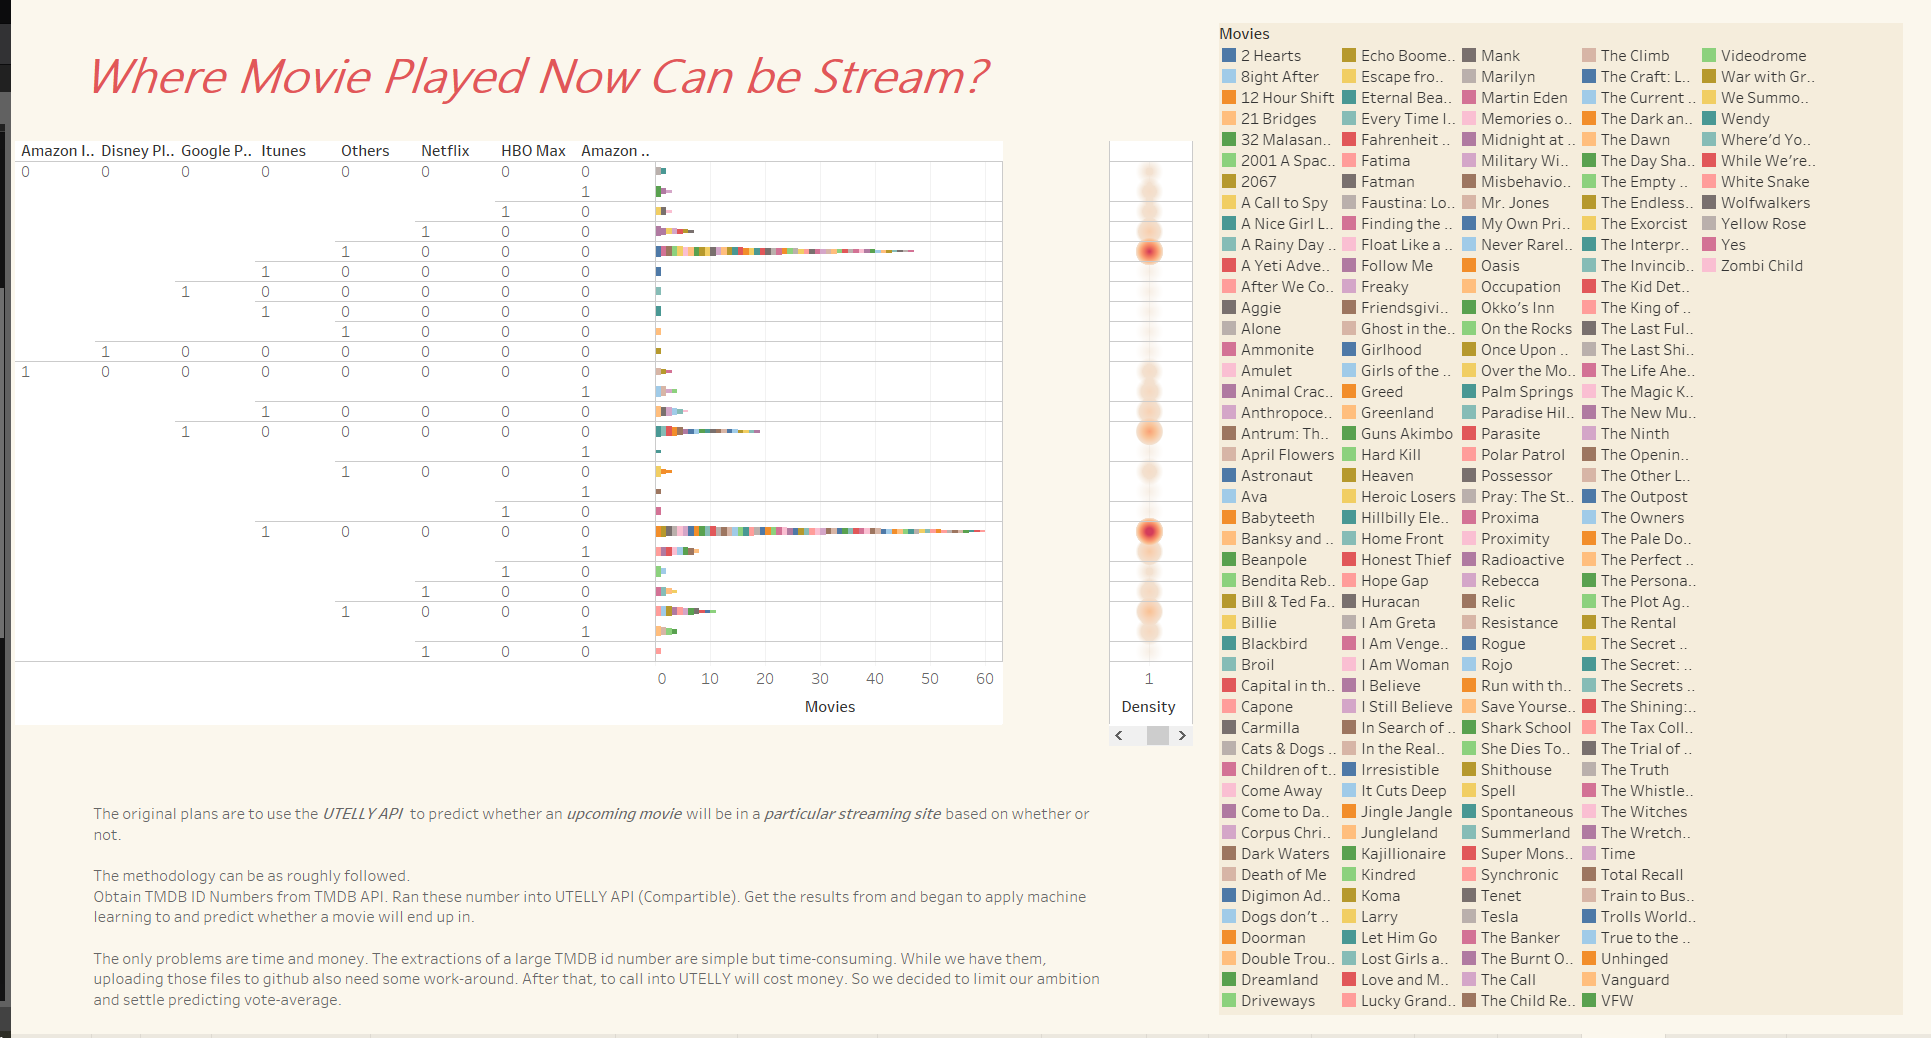

This screenshot's page, from the dashboard's own definition file:
{"tool":"tableau","page":{"name":"Dash C","canvas":[1000,1000],"units":"permille","ordinal":2},"visuals":[{"type":"worksheet","title":"Streaming Result","mark":"Bar","rows":["Amazon_Instant","Disney_Plus","Google_Play","Itunes","Others","Netflix","HBO_Max","Amazon_Prime"],"cols":["Movies"],"param":"[federated.0gvql4p02729981109lpc15wv29g].[none:Movies:nk]","box":[629,31,356.4,951.3]},{"type":"worksheet","box":[19.3,36.5,510.2,85.2]},{"type":"worksheet","title":"Streaming Result","mark":"Bar","rows":["Amazon_Instant","Disney_Plus","Google_Play","Itunes","Others","Netflix","HBO_Max","Amazon_Prime"],"cols":["Movies"],"box":[2.3,143.8,618.5,662.6]},{"type":"worksheet","title":"Streaming Result (2)","mark":"Heatmap","rows":["Amazon_Instant","Disney_Plus","Google_Play","Itunes","Others","Netflix","HBO_Max","Amazon_Prime"],"cols":["Movies"],"box":[571.7,143.8,43.9,693.6]},{"type":"worksheet","box":[41,761.1,531.3,234.5]}]}

Visuals, with their boxes on the dashboard's canvas, which has no fixed pixel size, in thousandths of its width and height (x1, y1, x2, y2). These are canvas units, not pixel positions in the 1931x1038 screenshot, which may show the page scaled, cropped or inside an application window:
"Streaming Result" worksheet (Bar marks): BBox(629, 31, 985, 982)
worksheet: BBox(19, 36, 530, 122)
"Streaming Result" worksheet (Bar marks): BBox(2, 144, 621, 806)
"Streaming Result (2)" worksheet (Heatmap marks): BBox(572, 144, 616, 837)
worksheet: BBox(41, 761, 572, 996)
